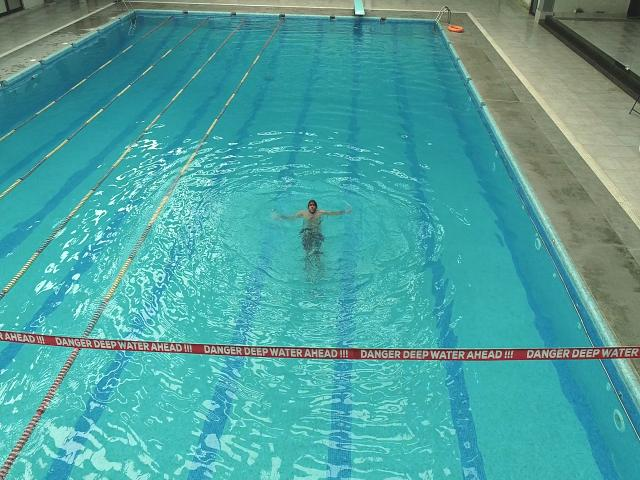swimming: (281, 198, 351, 274)
